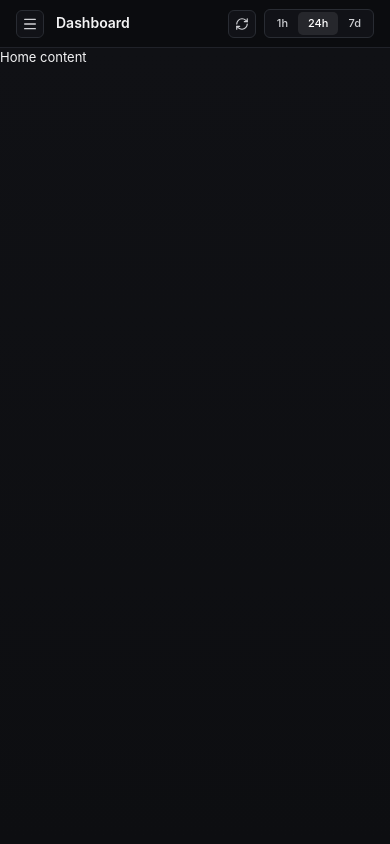
Test: AppShell › opens mobile navigation sheet
Click the button named "Open navigation menu". click: [30, 24]
box: [16,10,44,38]
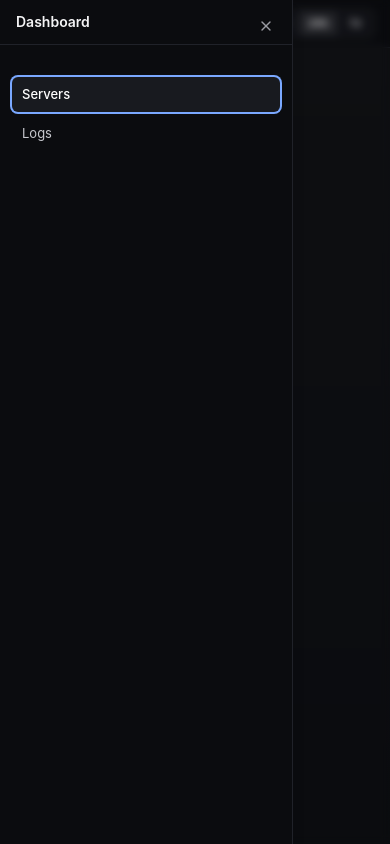
Check: the link "Logs" is shown, box [22,125,52,141]
